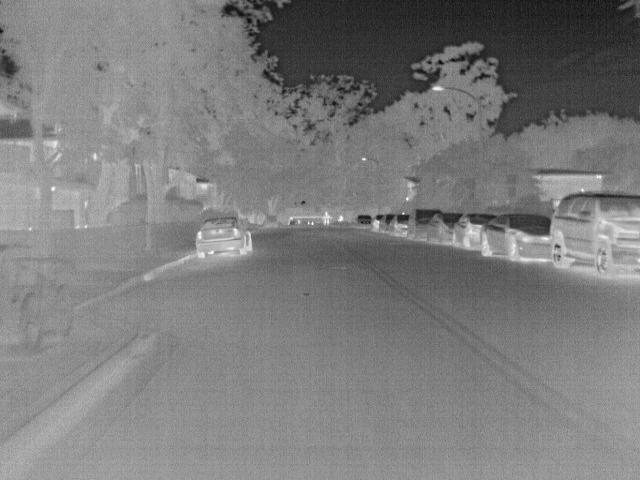car: (546, 192, 640, 278), (479, 210, 551, 264), (195, 216, 253, 260), (453, 212, 497, 248), (407, 208, 444, 241), (427, 213, 463, 246), (390, 215, 407, 234), (355, 212, 375, 227)
person: (321, 210, 333, 226)
